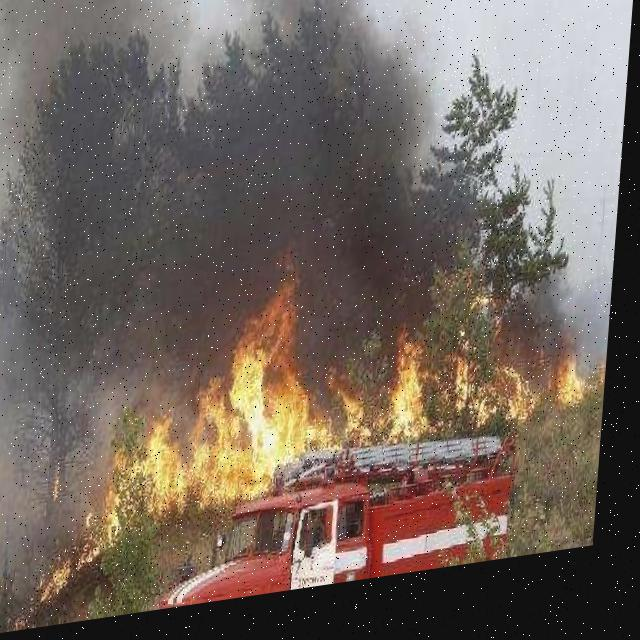Fire: (40, 253, 612, 602), (0, 564, 8, 638)
